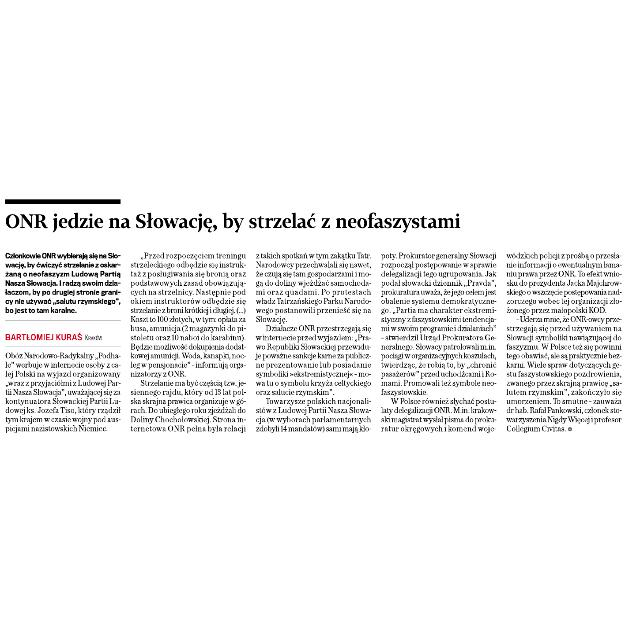author: (4, 329, 82, 343)
body: (503, 250, 625, 434), (128, 248, 248, 434), (379, 250, 499, 434), (254, 248, 372, 434), (2, 348, 122, 436)
lead: (5, 248, 124, 314)
title: (4, 206, 466, 234)
